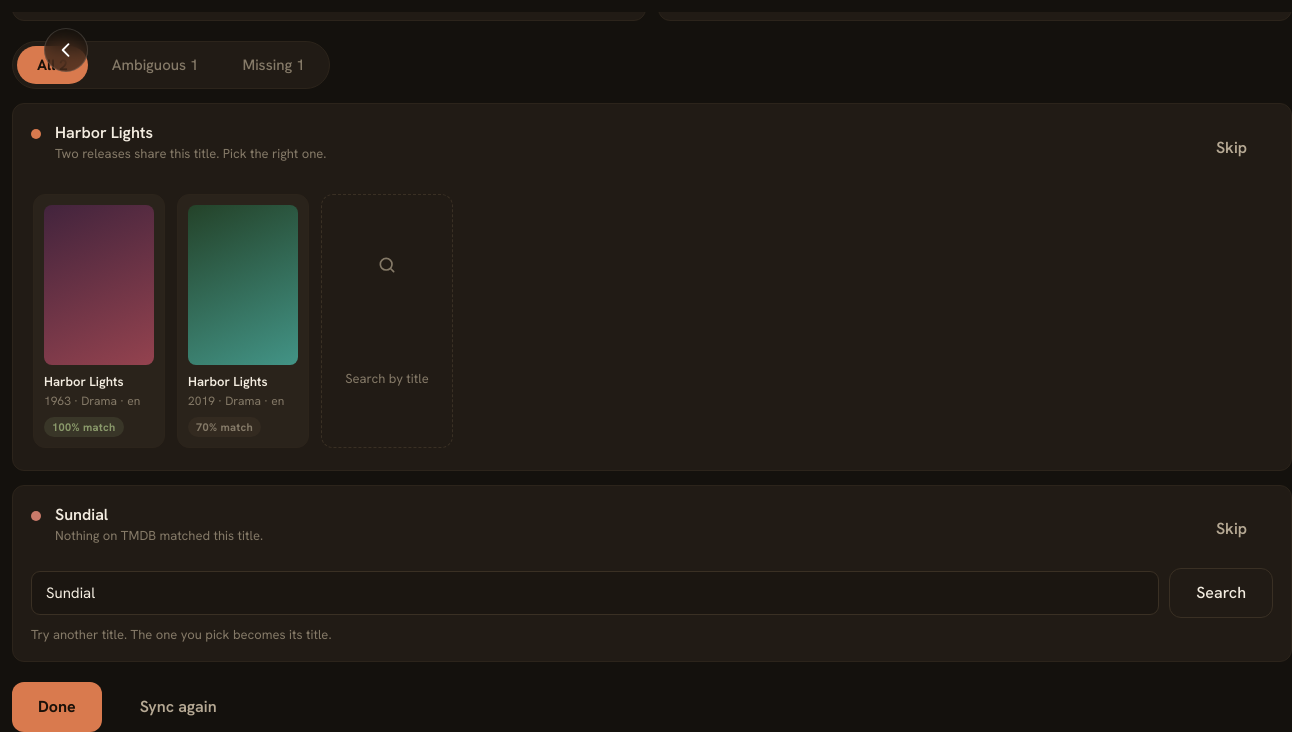
Test: EnrichmentFlow — Skip › sends the DELETE and takes the row off the list
(page scrolled)
Expected: the text "Nothing on TMDB matched this title." is shown, x1=55 y1=527 x2=263 y2=544
Click the button "Skip" in the row of "Nothing on TMDB matched this title.": (1232, 529) x1=1190 y1=504 x2=1273 y2=554
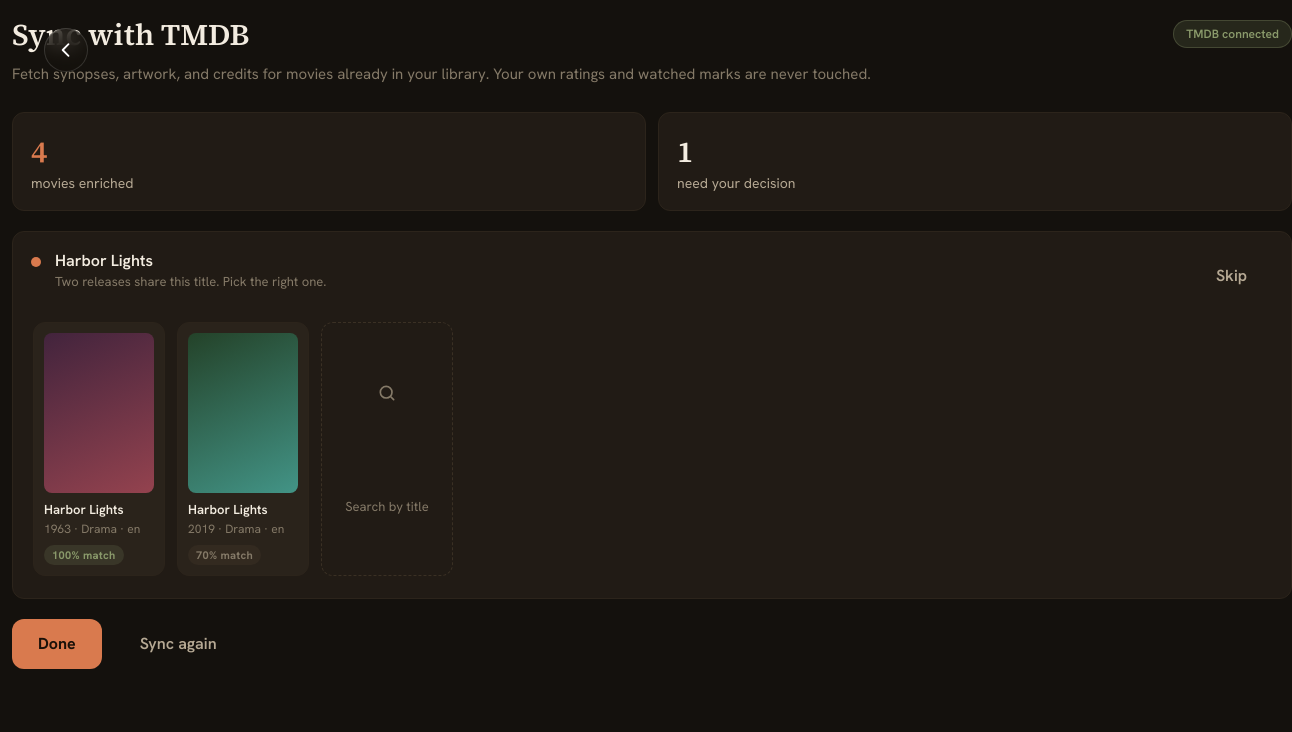
Expected: the text "Nothing on TMDB matched this title." is gone
